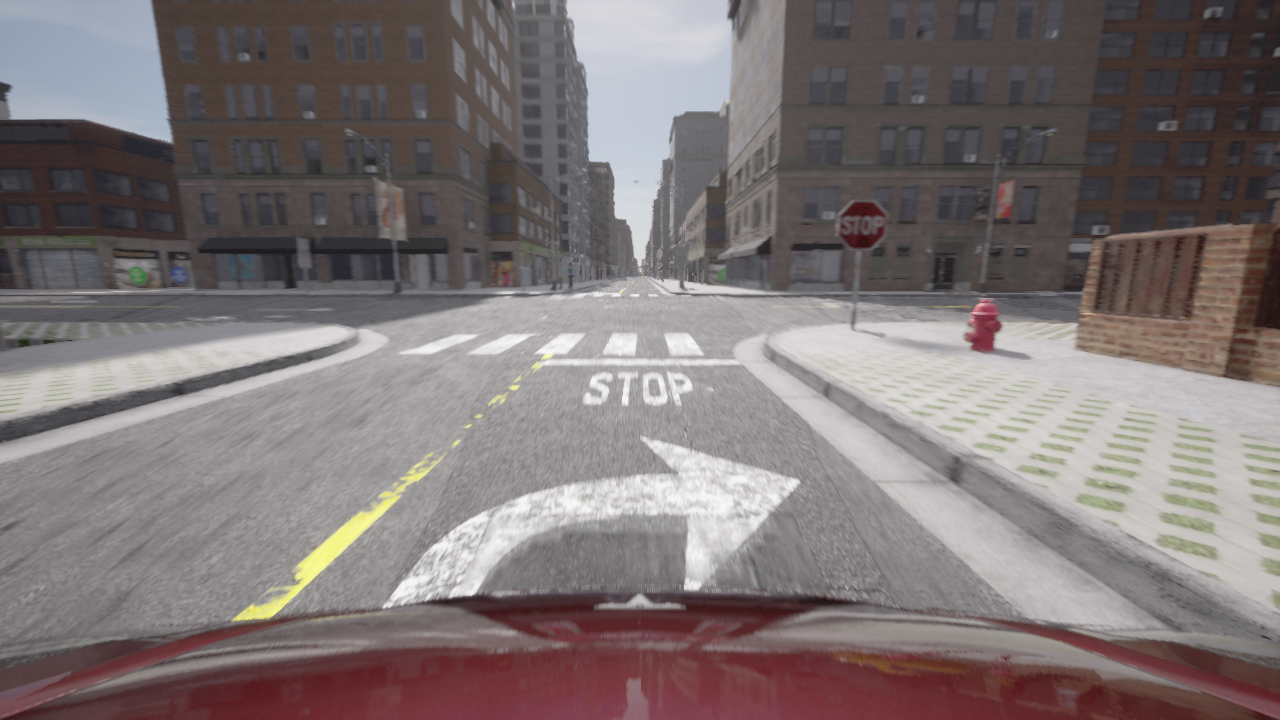cyclist: (0, 588, 1279, 719)
pedestrian: (567, 262, 573, 288), (559, 273, 563, 289)
